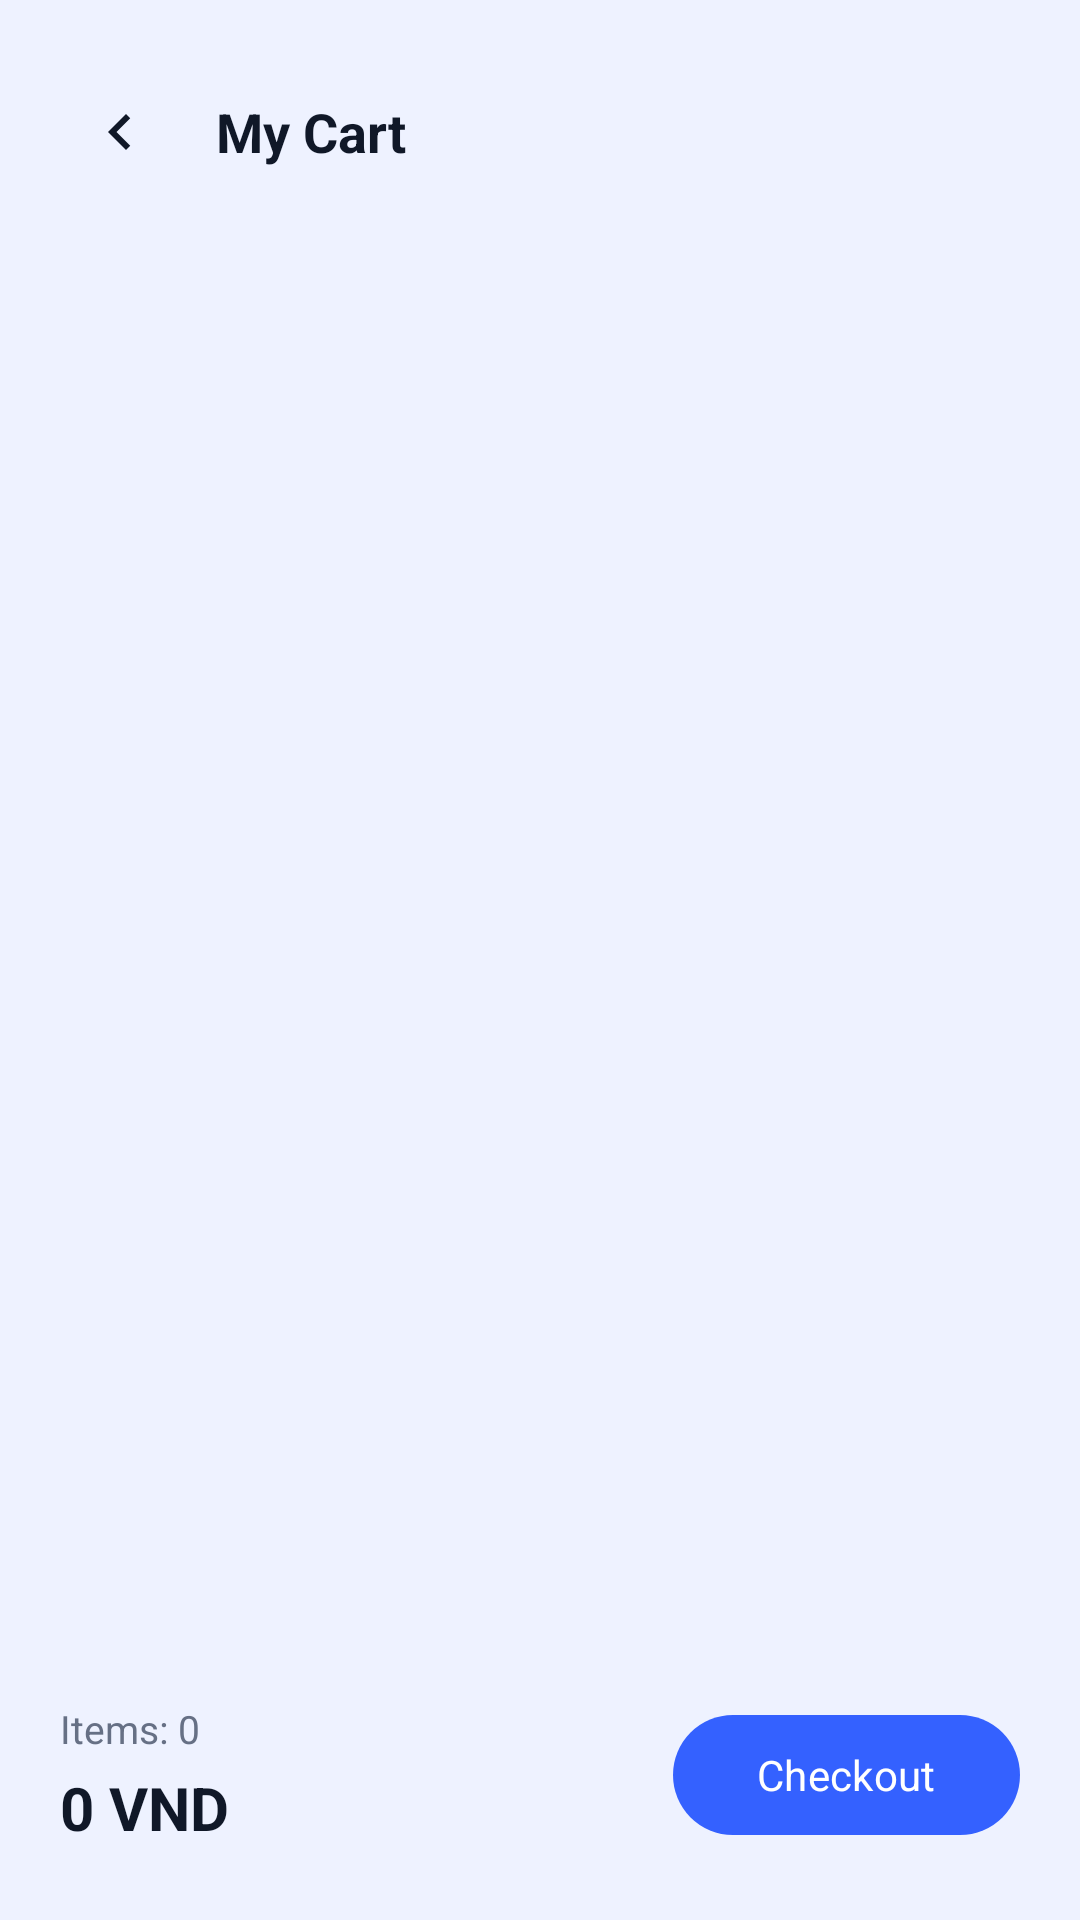

Where icons sit on this 1080×1920 app screen, as (x1, y1, x2, y2):
back: (108, 114, 130, 150)
